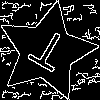T: (21, 26, 72, 81)
